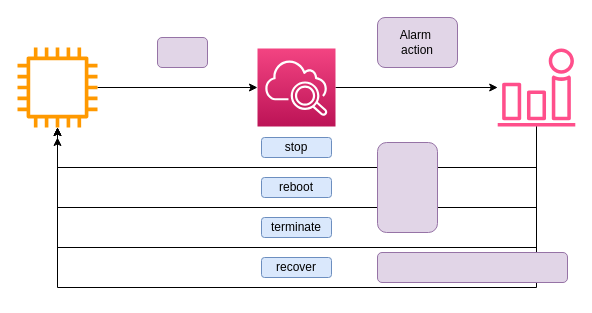
This 592x313 diagram has some shape labels left out. Each missing label, with the centre of its shape:
"Any metric" belongs at point (407, 187).
"Metric" belongs at point (182, 52).
"StatusCheckFailed_System only" belongs at point (472, 267).
